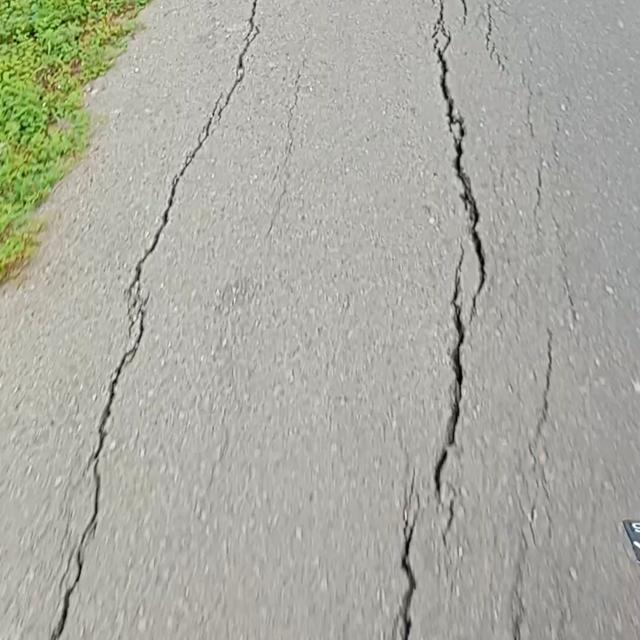Memanjang: (27, 0, 282, 639), (371, 1, 512, 640)
